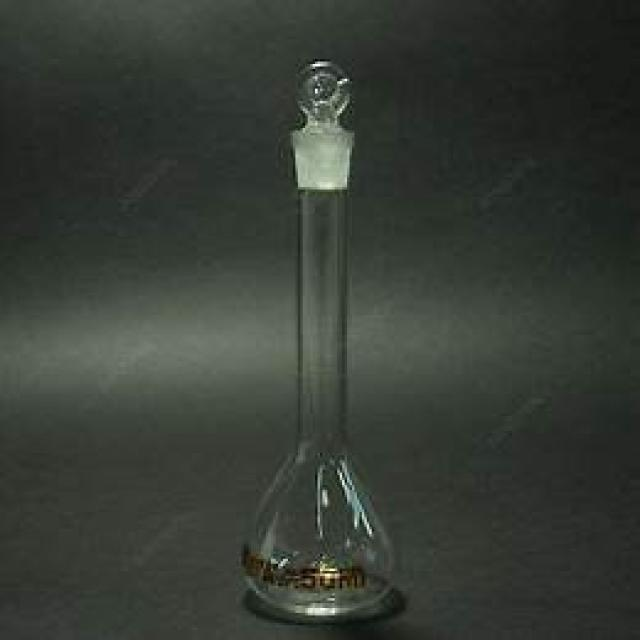Volumetric flask: (224, 39, 415, 624)
